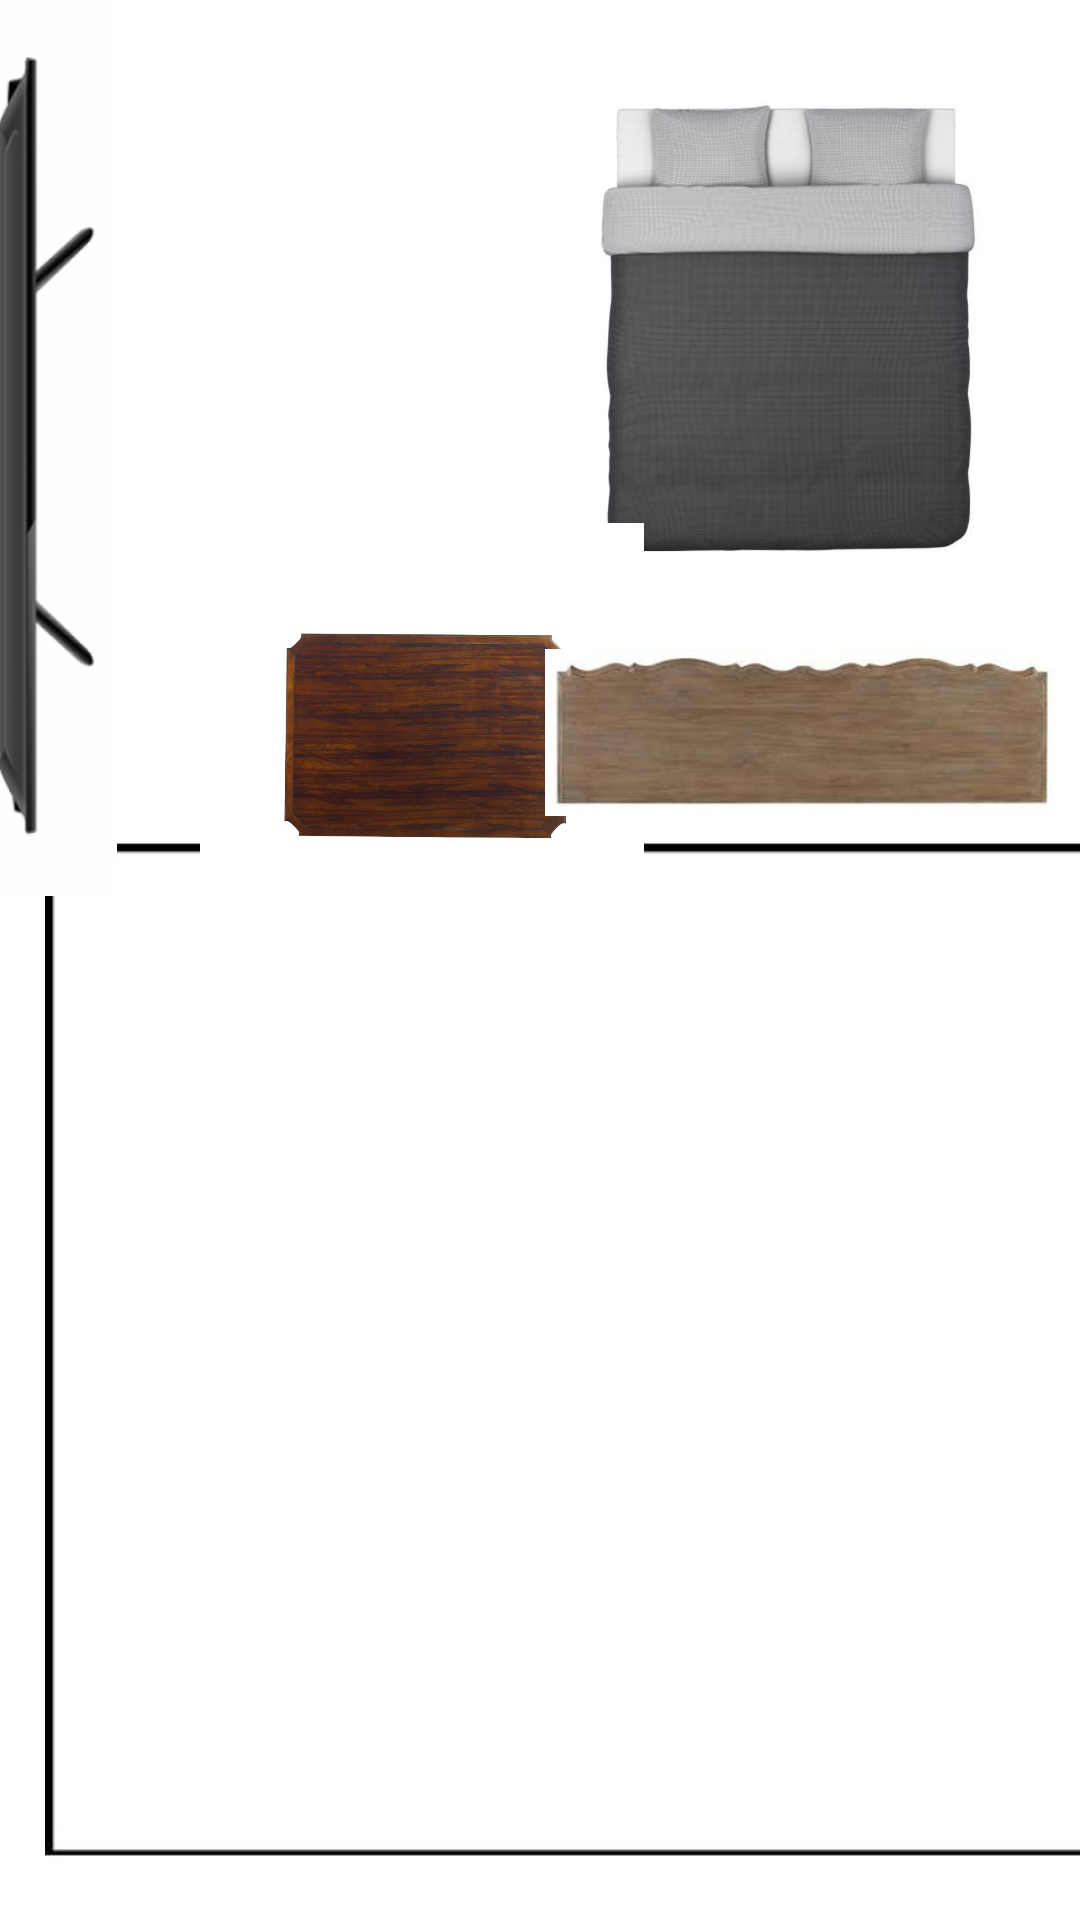

Icon click points for this 1080w x 1920h phone screenshot, format point (x, y):
table: point (425, 735)
